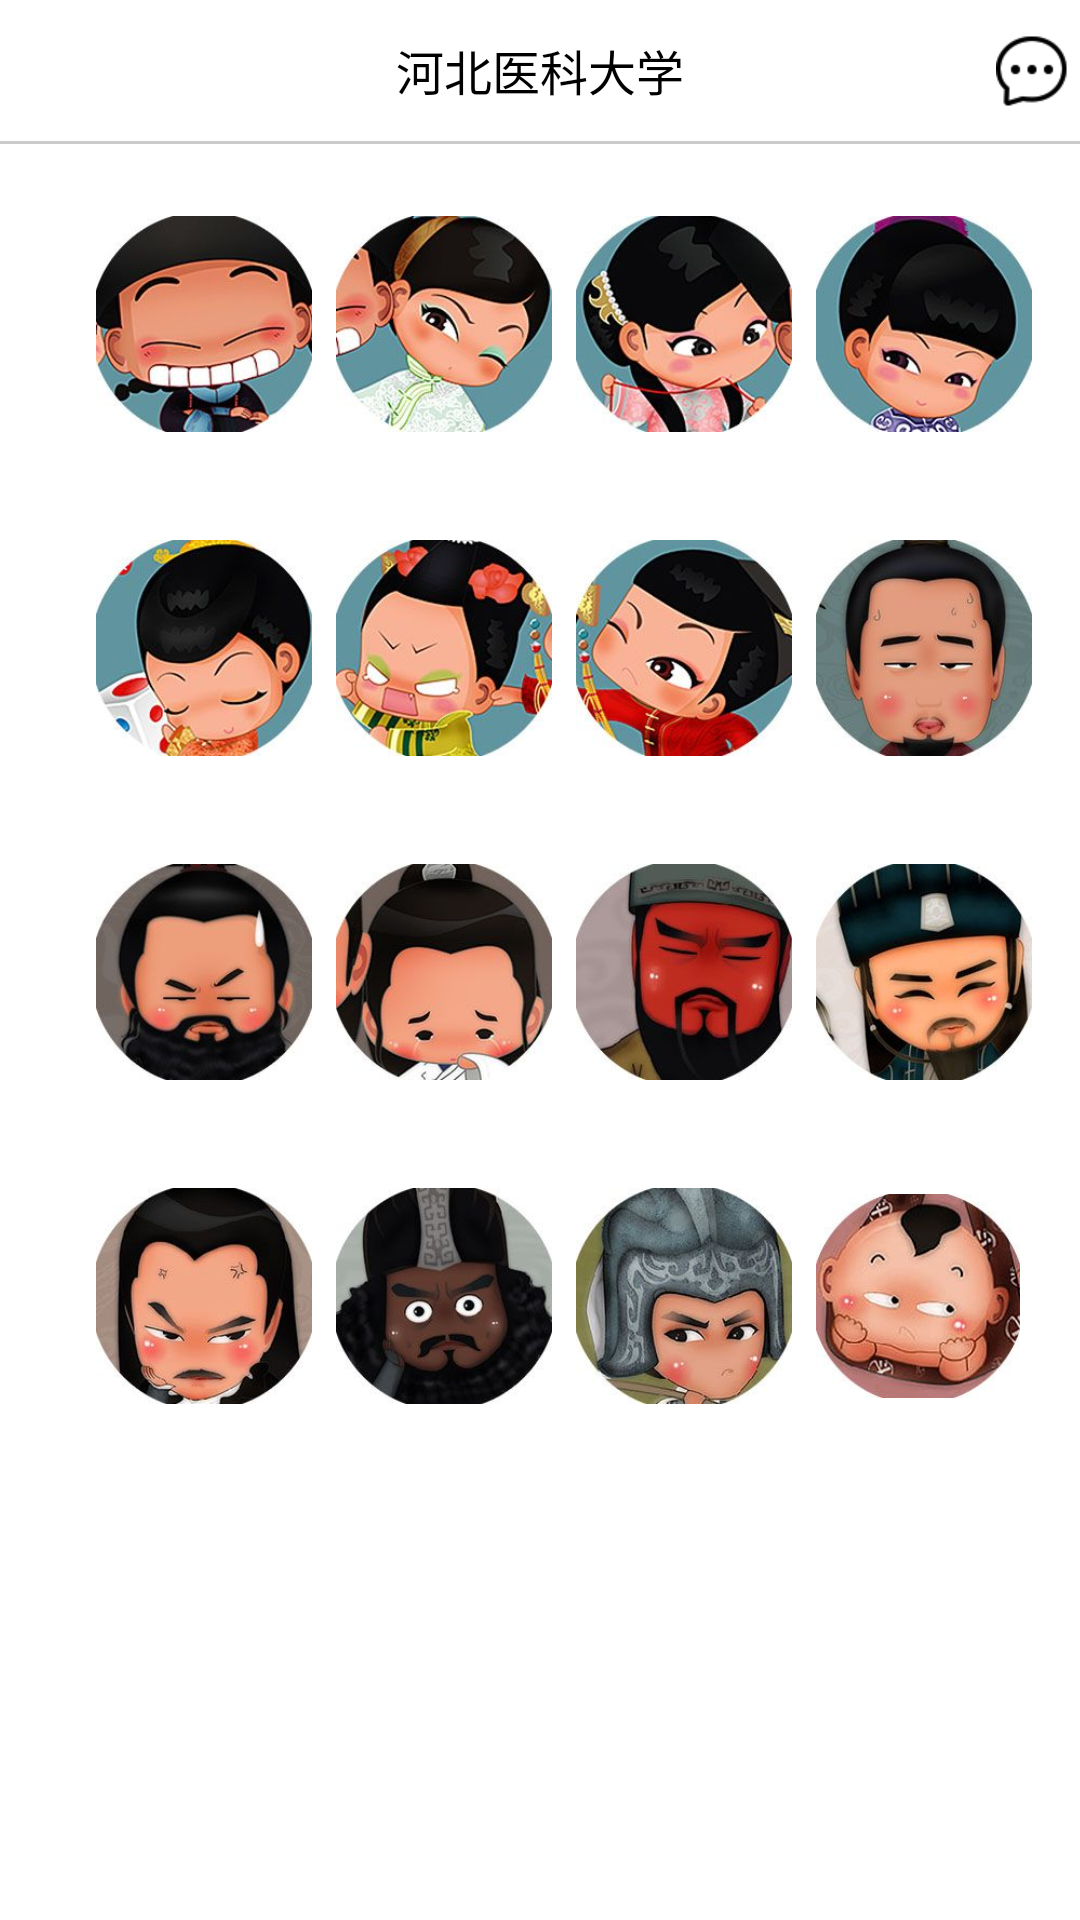

Named icons in this screenshot (1080px x 1920px) and their centers, [x,y]:
news comment: [1031,71]
